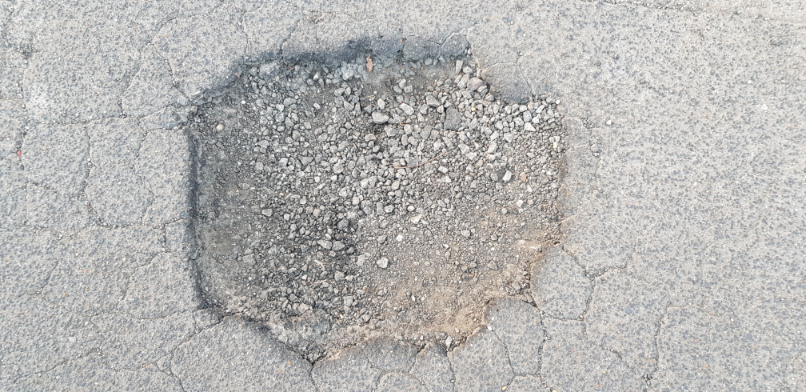pothole: (172, 28, 575, 367)
